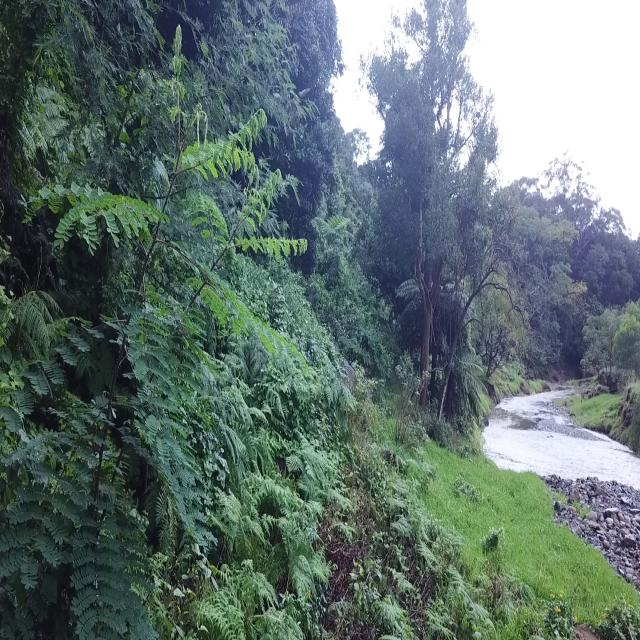Mysore-Thorn-Weed: (5, 10, 312, 633)
